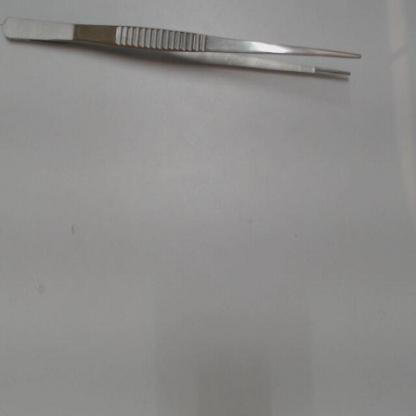DeBakey Dissector: (1, 5, 384, 119)
